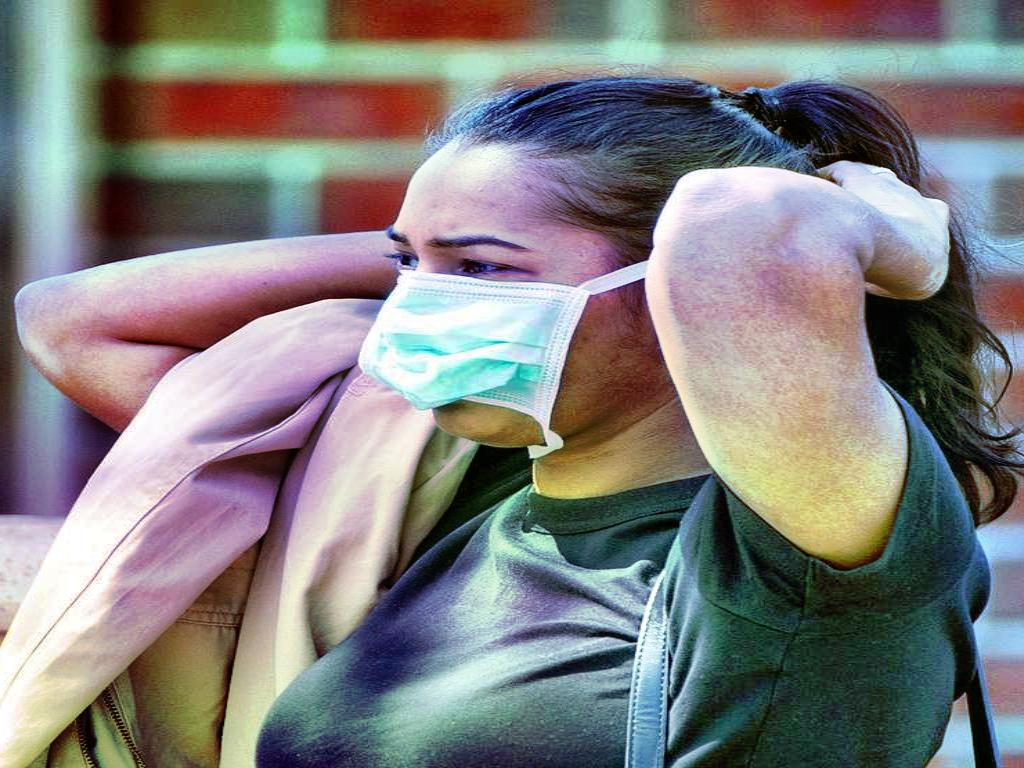mask_weared_incorrect: (351, 75, 814, 465)
